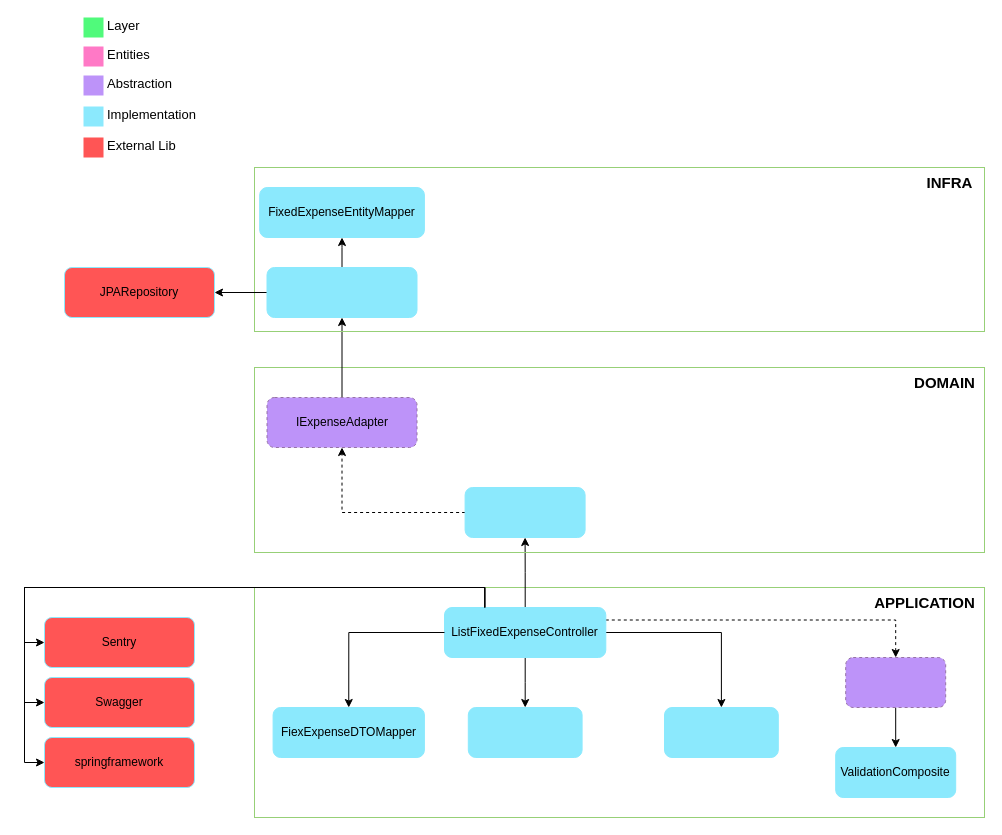
Image size: 1002x835. Some labels were removed from this diagram. The centre of each missing label's shape, as x and y in pixels:
Controller: [895,682]
ExpenseAdapter: [341,292]
GetUserProfile: [721,732]
ListFixedExpense: [524,512]
ValidationBuilder: [524,732]
